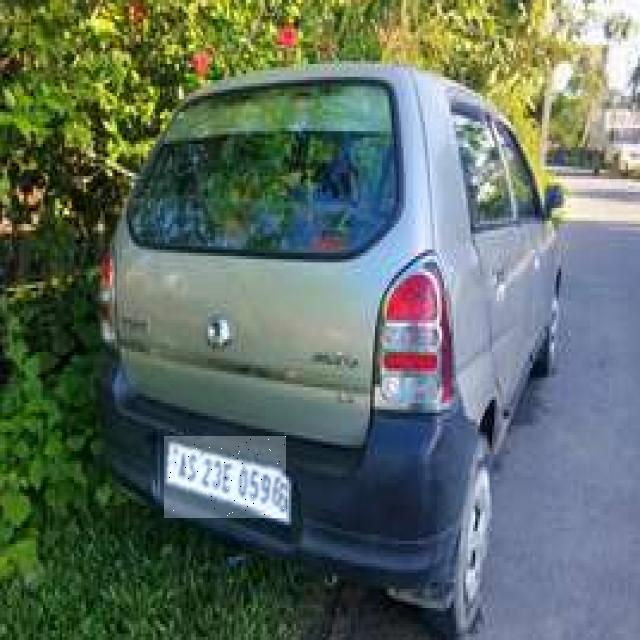Plate: (166, 437, 288, 519)
